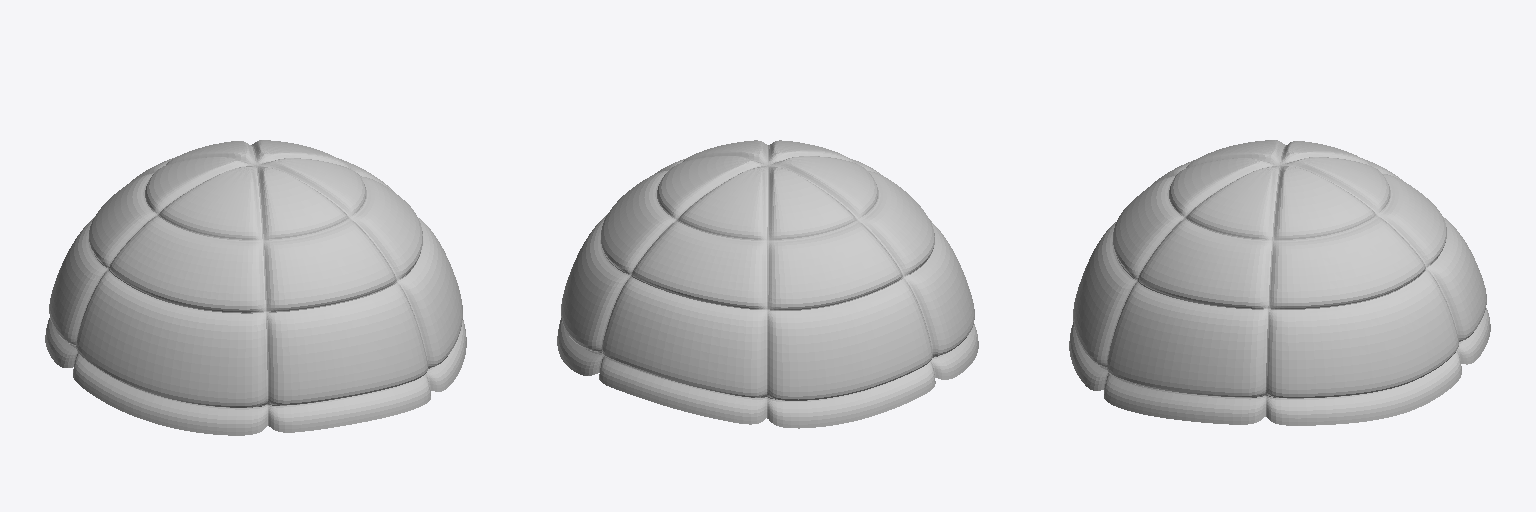
The model's file is carapaceT2.obj.
3 renders of one model, left to right at view 1: azimuth 30°, elevation 25°; view 2: azimuth 150°, elevation 25°; view 3: azimuth 270°, elevation 25°, orthographic.
Size of the model in its own units: 1.98 by 0.993 by 1.99.